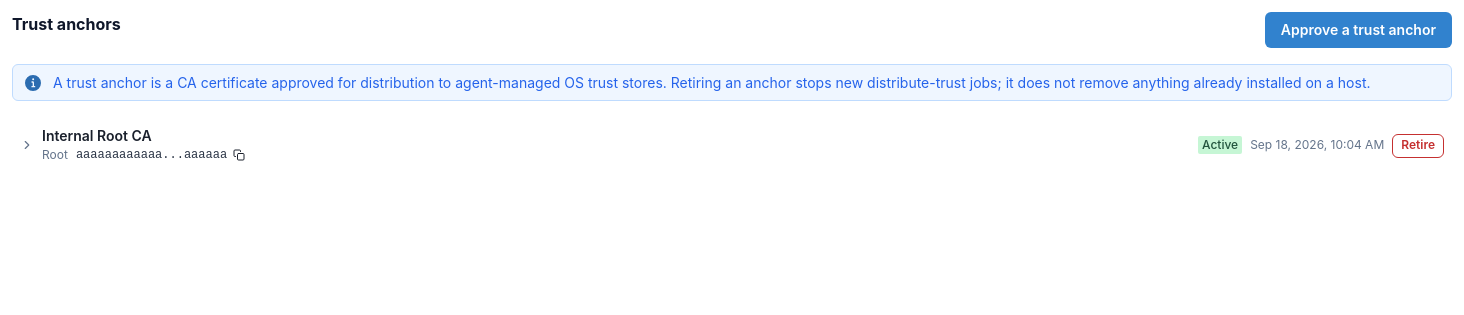
Test: TrustAnchorsPanel › shows the Needs attention badge and mapped message for a stalled reconciliation, not the raw code
Step 1. Click the text "Internal Root CA" → (97, 136), box [42,127,152,144]
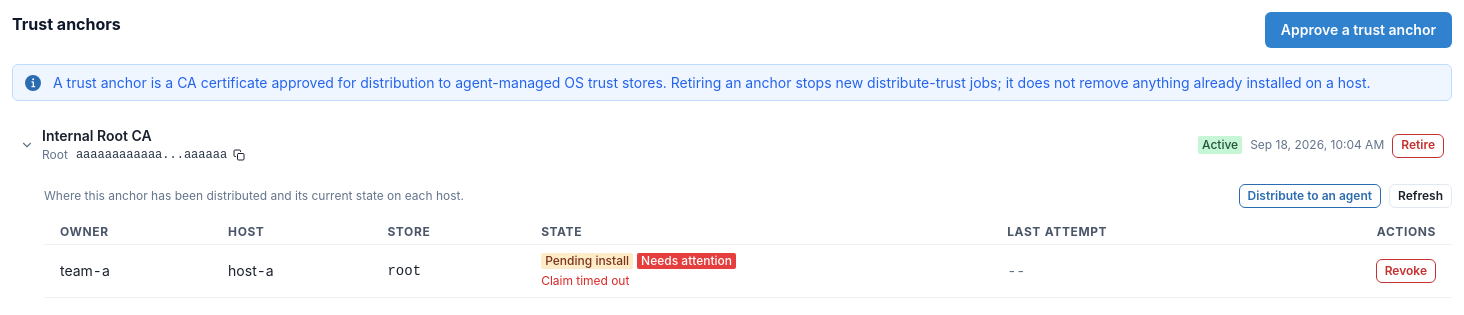
Check: the text "Pending install" is shown, box [541,253,633,269]
Check: the text "Needs attention" is shown, box [637,253,736,269]
Check: the text "Claim timed out" is shown, box [541,273,629,289]
